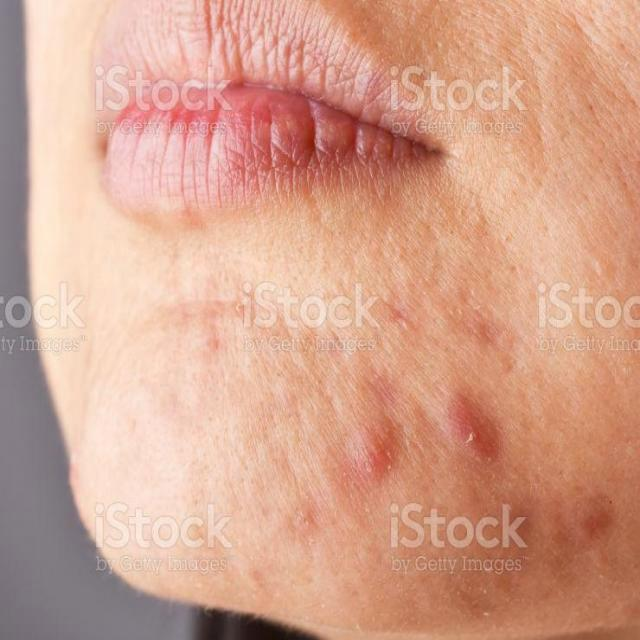Pimples: (448, 392, 498, 460), (348, 414, 393, 476), (575, 486, 614, 540), (282, 500, 316, 536)
